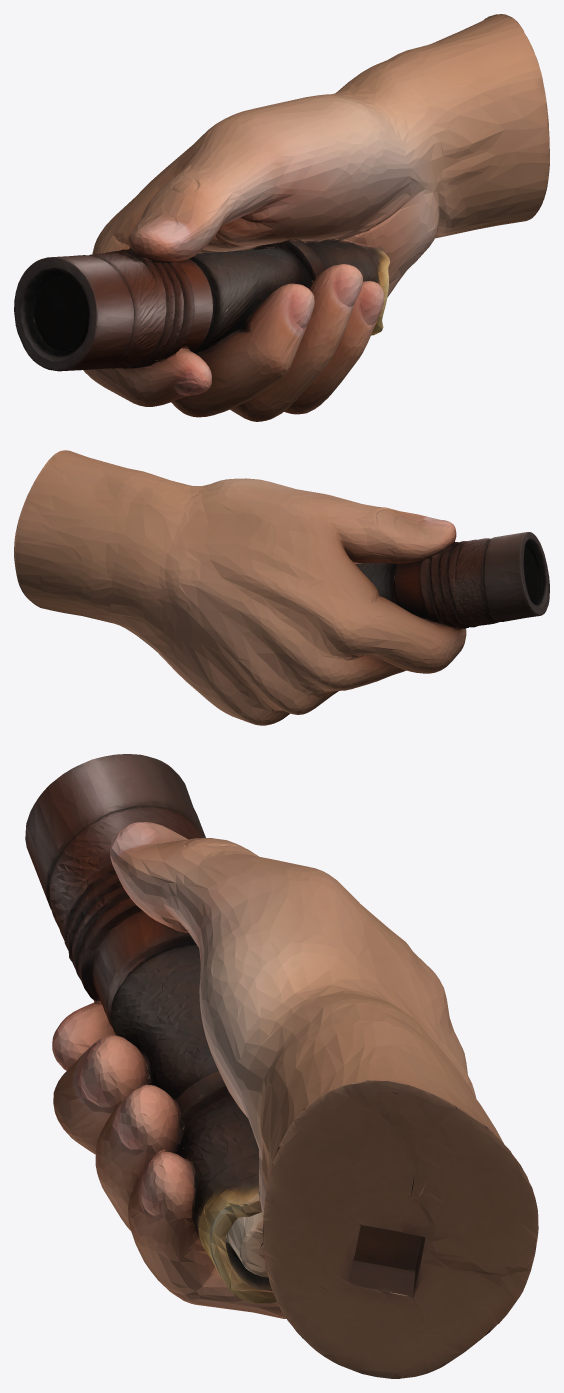
File: hand_with_light_4k.glb
The picture shows the model from 3 angles, top to bottom: view 1: azimuth 30°, elevation 25°; view 2: azimuth 150°, elevation 25°; view 3: azimuth 270°, elevation 25°; orthographic projection. The views are drawn at different scales.
Parts seen in each view (by area): view 1: AIprintgen_model; view 2: AIprintgen_model; view 3: AIprintgen_model.
Part boxes in pixels (x1=…): AIprintgen_model: x1=14, y1=14, x2=549, y2=421; AIprintgen_model: x1=14, y1=450, x2=549, y2=725; AIprintgen_model: x1=25, y1=754, x2=538, y2=1378.
Bounding box in the file's own units: 1 × 0.5019 × 0.5216.
1 material, 1 textured.
